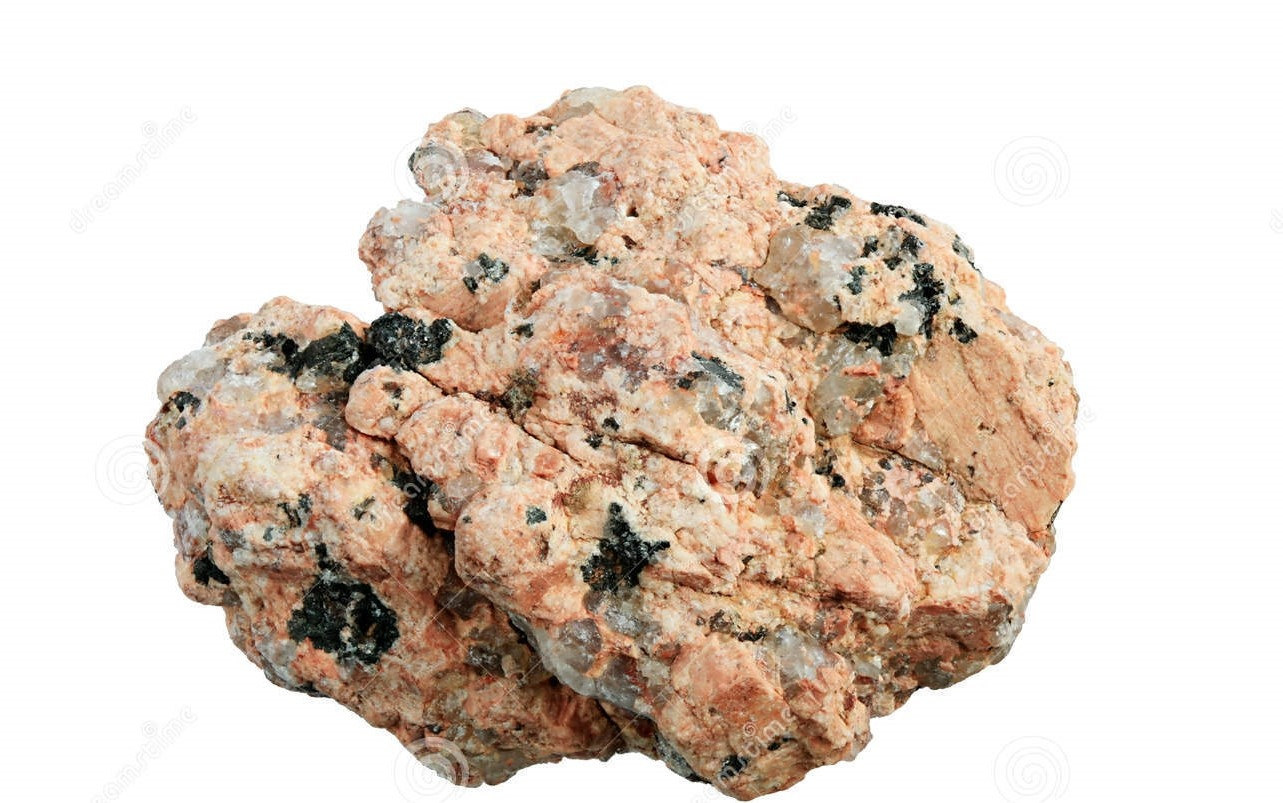obstacle: (146, 88, 1076, 797)
